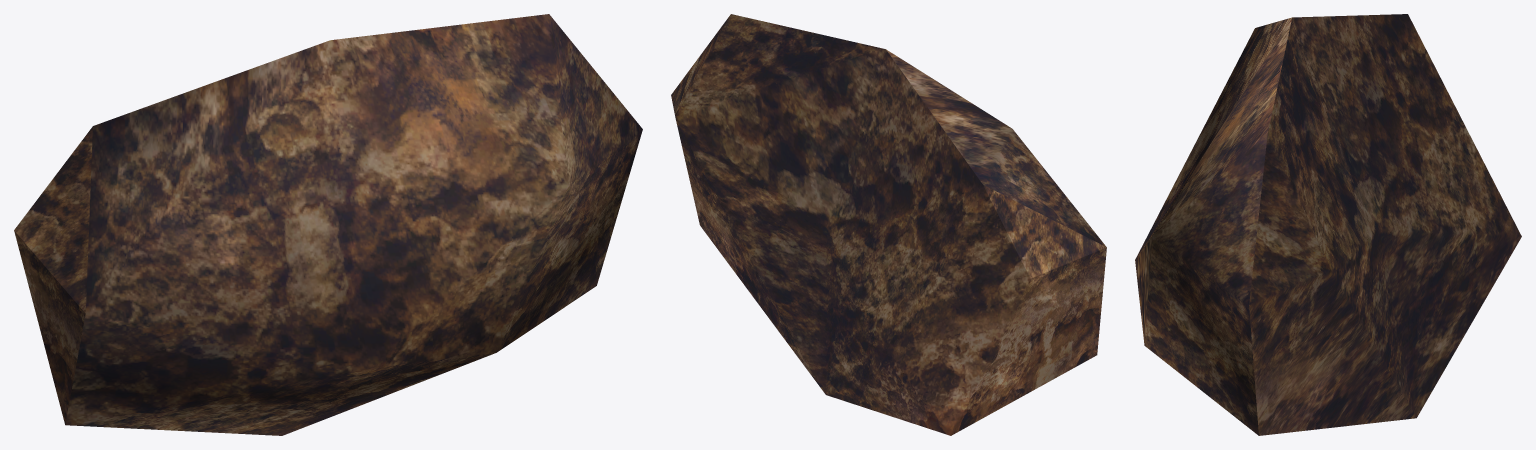
Rendered from stg600_obj_meteoriteA_bp1.obj.
3 renders of one model, left to right at view 1: azimuth 30°, elevation 25°; view 2: azimuth 150°, elevation 25°; view 3: azimuth 270°, elevation 25°, orthographic. The views are drawn at different scales.
Visible parts, largest first — view 1: polygon0, polygon1; view 2: polygon1, polygon0; view 3: polygon1, polygon0.
Part boxes in pixels (x1=…): polygon0: x1=65, y1=14, x2=642, y2=435; polygon1: x1=14, y1=126, x2=92, y2=424; polygon1: x1=671, y1=14, x2=1106, y2=435; polygon0: x1=886, y1=49, x2=1106, y2=246; polygon1: x1=1249, y1=14, x2=1521, y2=435; polygon0: x1=1135, y1=17, x2=1292, y2=435.
Size of the model in its own units: 21.37 by 14.4 by 12.8.
Materials: 2 (2 with a texture image).
